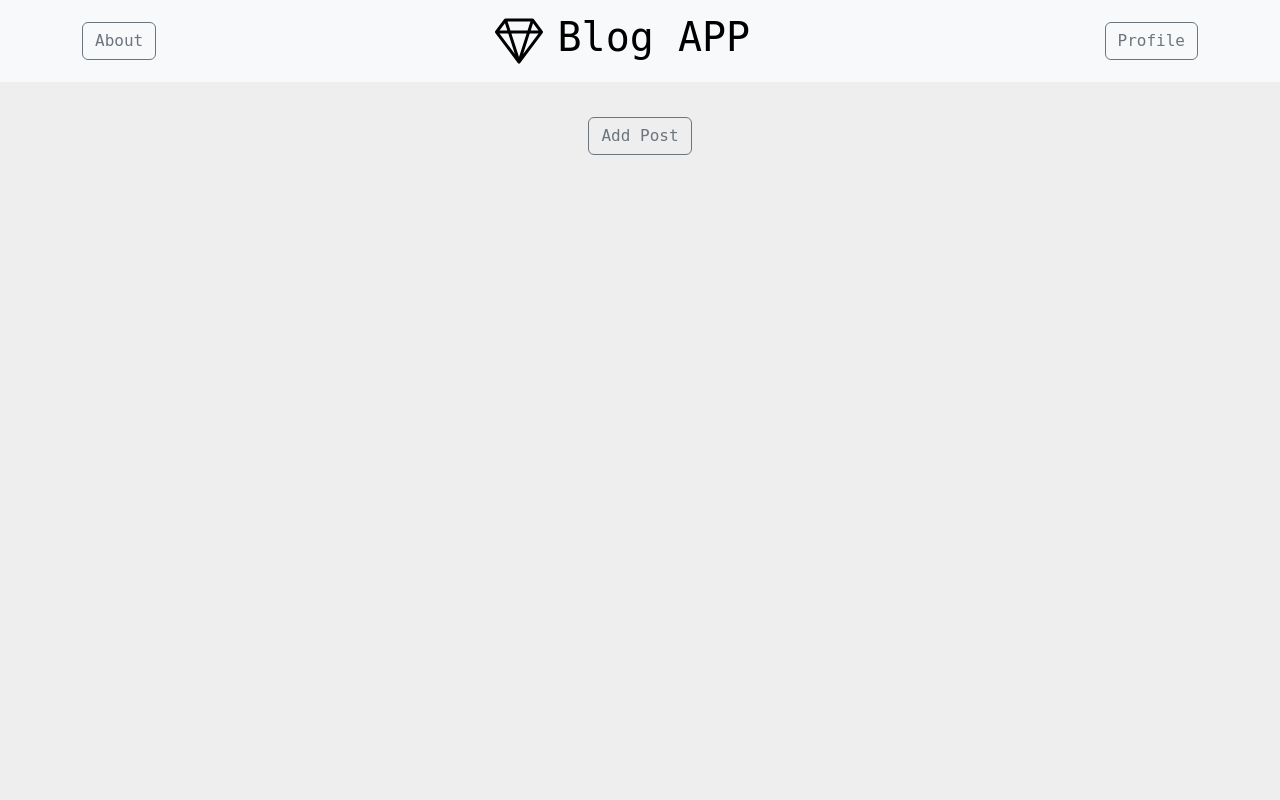
Test: AddPostModal Component Tests › should open the modal to edit an existing post
The width and height of the screenshot is (1280, 800).
// Спочатку додайте пост для редагування
Click the button with class "add-btn" at (641, 136), box [589, 117, 692, 155]
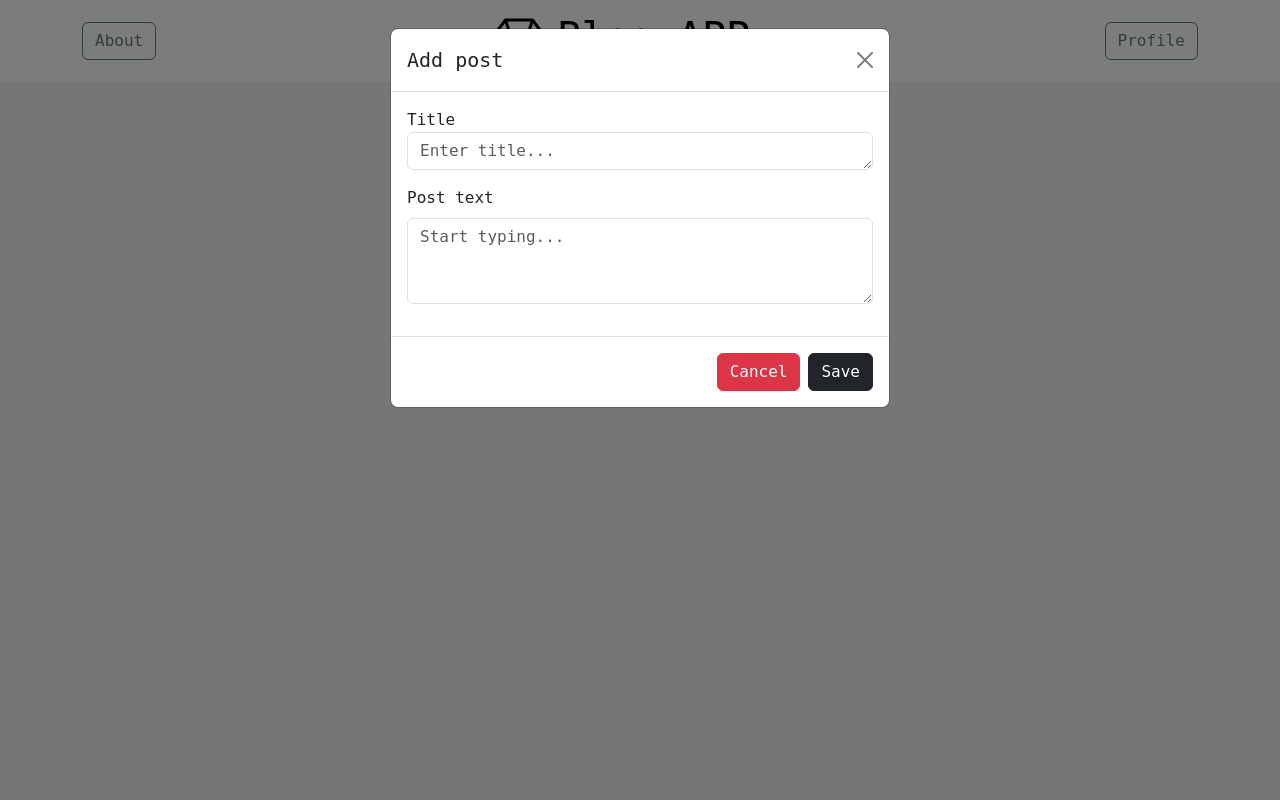
Type "Test Post Title" into the text box with id "add_title_post" at (640, 151), box [407, 132, 873, 170]
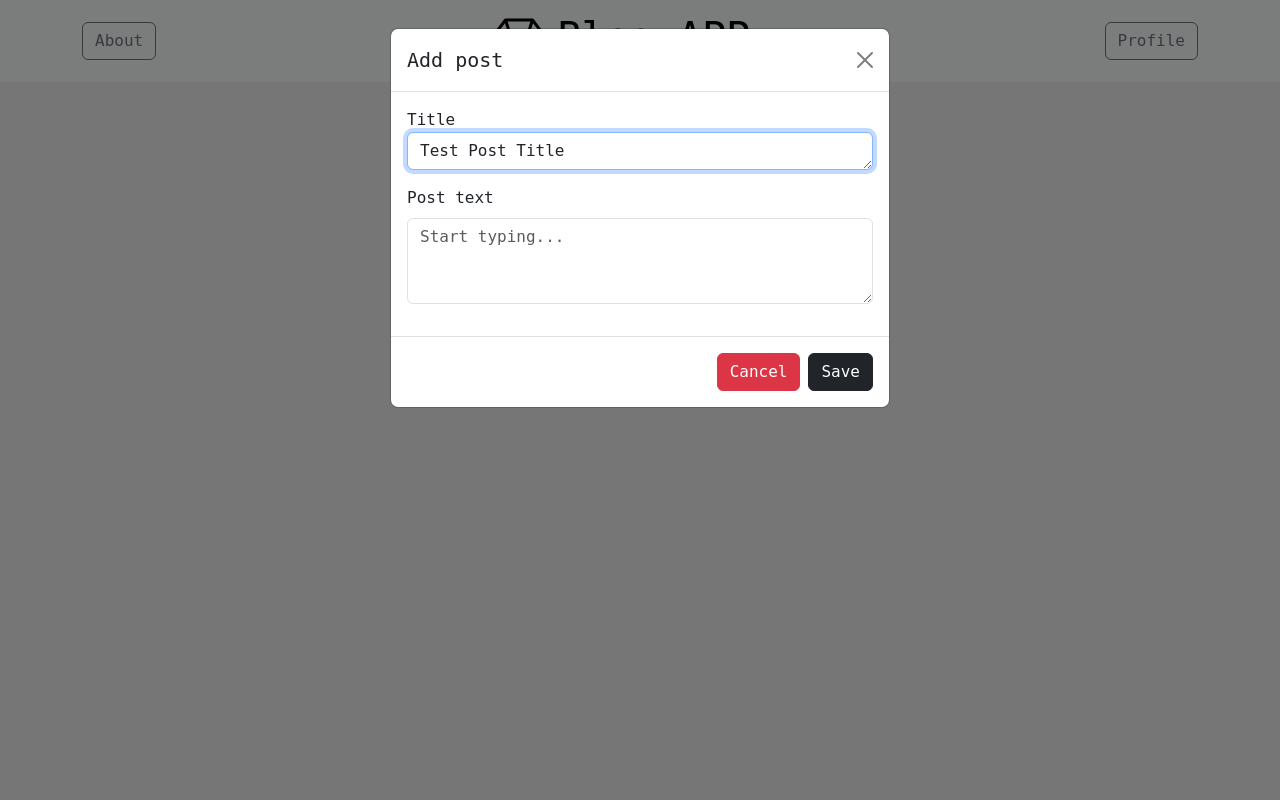
Type "Test Post Description" into the text box labelled "Post text" at (640, 261), box [407, 218, 873, 304]
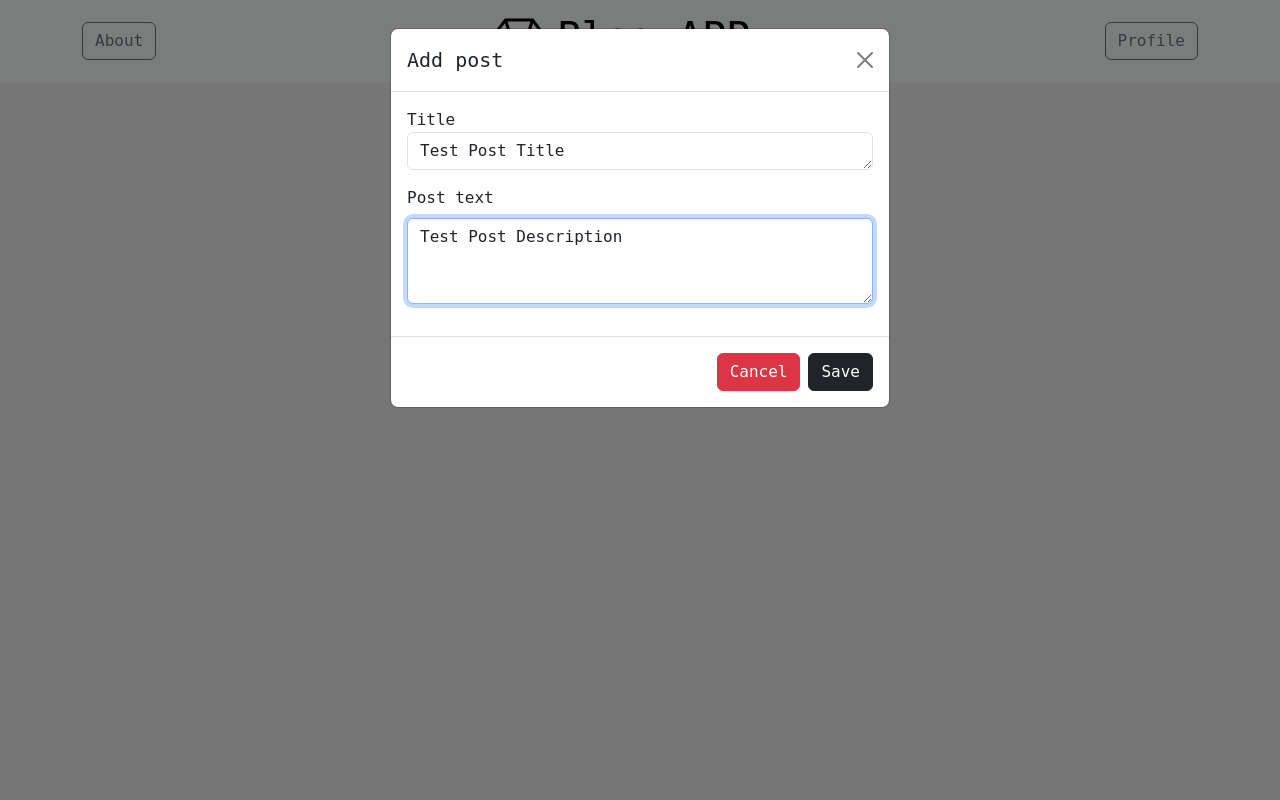
Click the button with class "btn-dark" at (842, 372), box [809, 353, 874, 391]
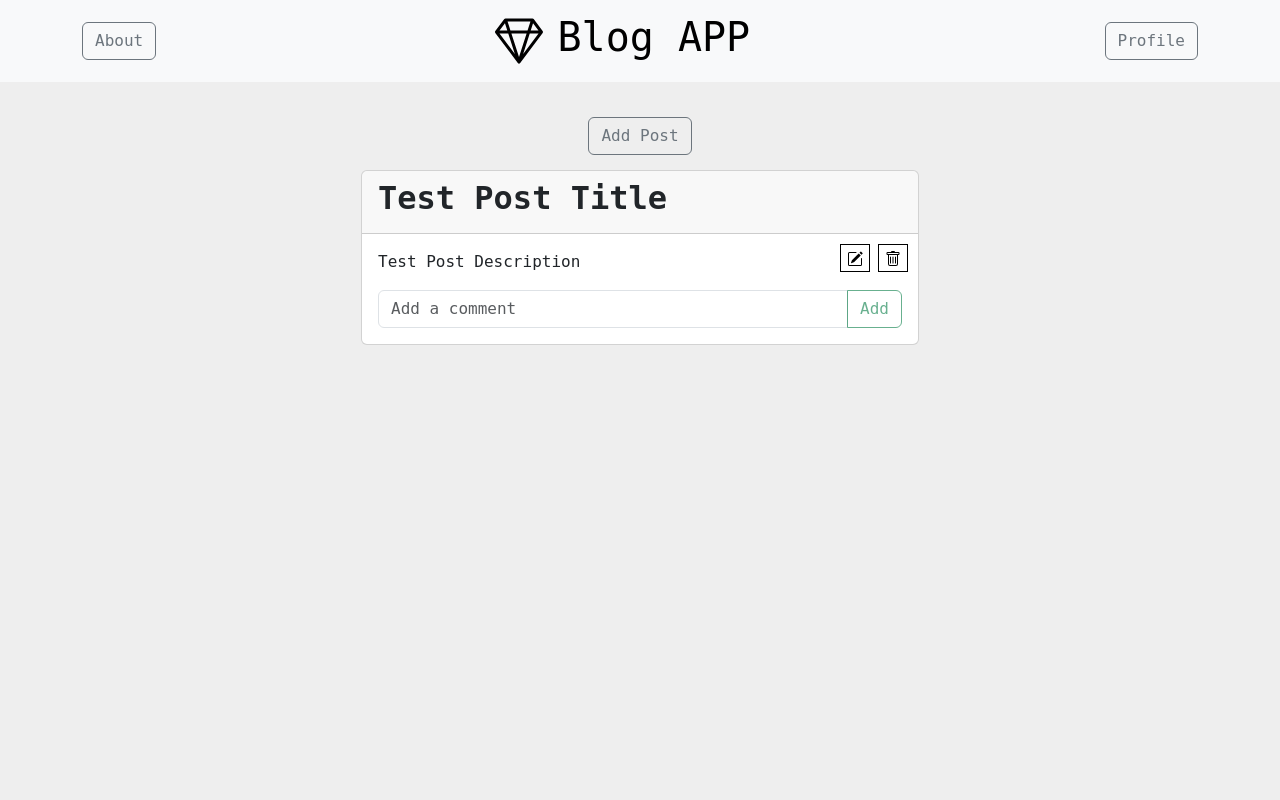
// Натисніть кнопку для редагування посту (використовуйте правильний селектор для кнопки редагування)
Click the button with class "edit-btn" at (855, 258), box [840, 244, 870, 272]
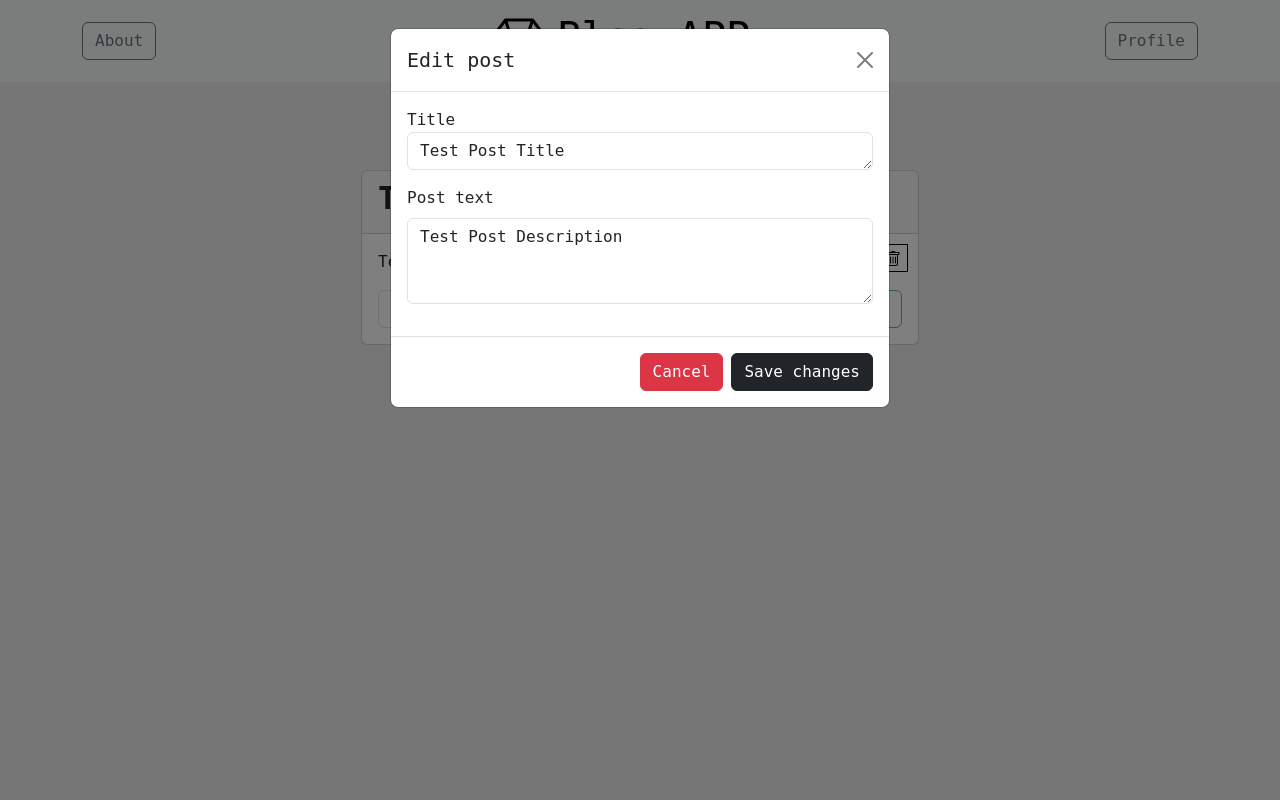
Check: the heading with id "add_post_item_modal_label" reads "Edit post", box [407, 48, 515, 72]
